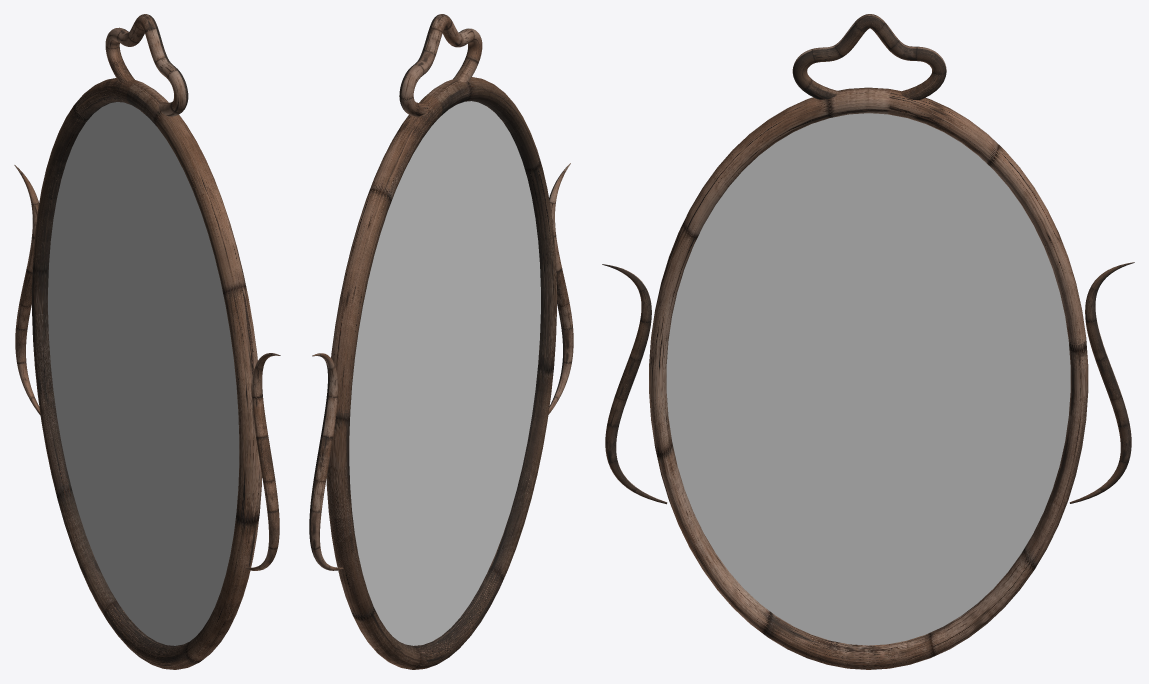
Rendered from asl_ayna (1).fbx.
3 views of the same model, side by side, from view 1: azimuth 30°, elevation 25°; view 2: azimuth 150°, elevation 25°; view 3: azimuth 270°, elevation 25° (orthographic).
Visible parts, largest first — view 1: Plane, ayna, yan1; view 2: Plane, ayna, yan1; view 3: Plane, ayna, yan1.
Part boxes in pixels (x1,y1,x2,y2): Plane: (48,102,239,645); ayna: (32,78,262,669); yan1: (14,14,280,570); Plane: (349,101,540,645); ayna: (326,77,556,669); yan1: (309,14,573,570); Plane: (666,113,1070,645); ayna: (649,87,1088,669); yan1: (602,14,1134,504).
Size of the model in its own units: 24.84 by 694 by 512.
Materials: 1 (1 with a texture image).
